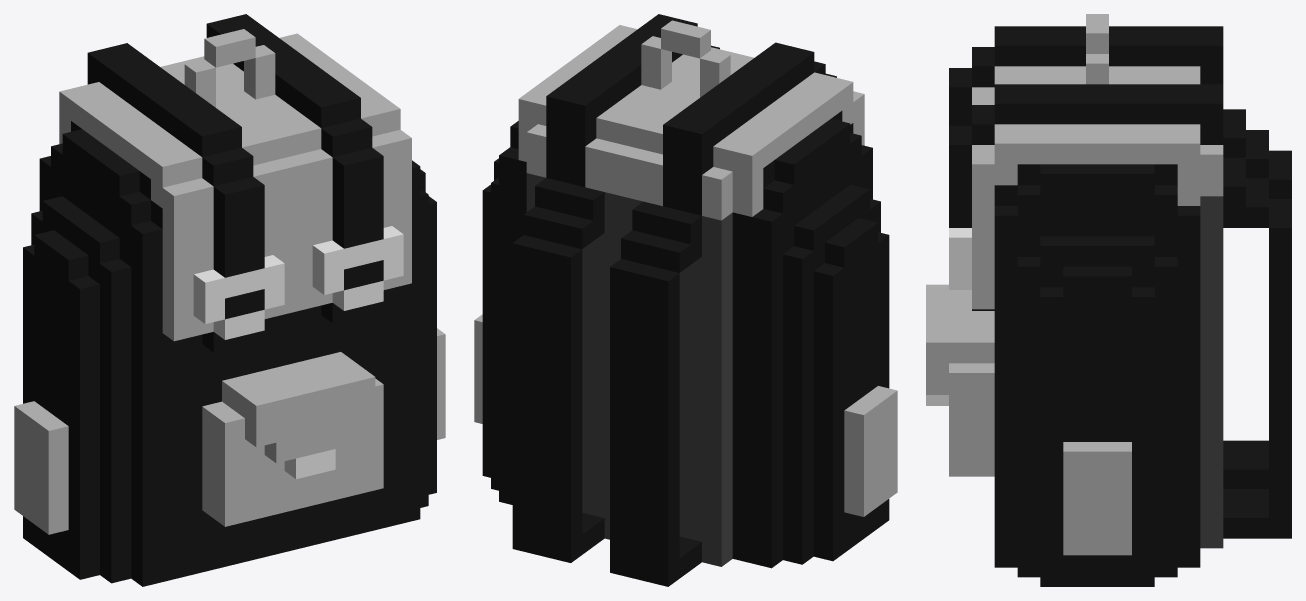
The model's file is blackbag.glb.
3 renders of one model, left to right at view 1: azimuth 30°, elevation 25°; view 2: azimuth 150°, elevation 25°; view 3: azimuth 270°, elevation 25°, orthographic.
Parts seen in each view (by area): view 1: Untitled; view 2: Untitled; view 3: Untitled.
Part boxes in pixels (x1,y1,x2,y2): Untitled: (14,14,445,586); Untitled: (474,14,897,586); Untitled: (926,14,1291,586).
Size of the model in its own units: 2 by 2.3 by 1.6.
1 material, 1 textured.
